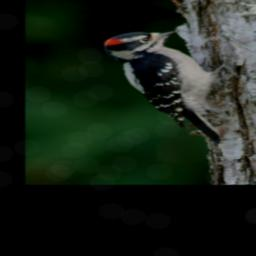Woodpecker: (99, 28, 232, 146)
